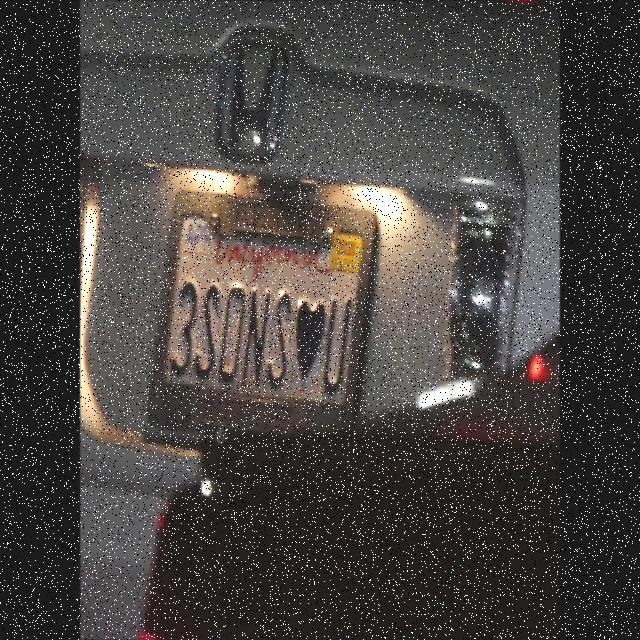licenseplate: (166, 186, 360, 415)
